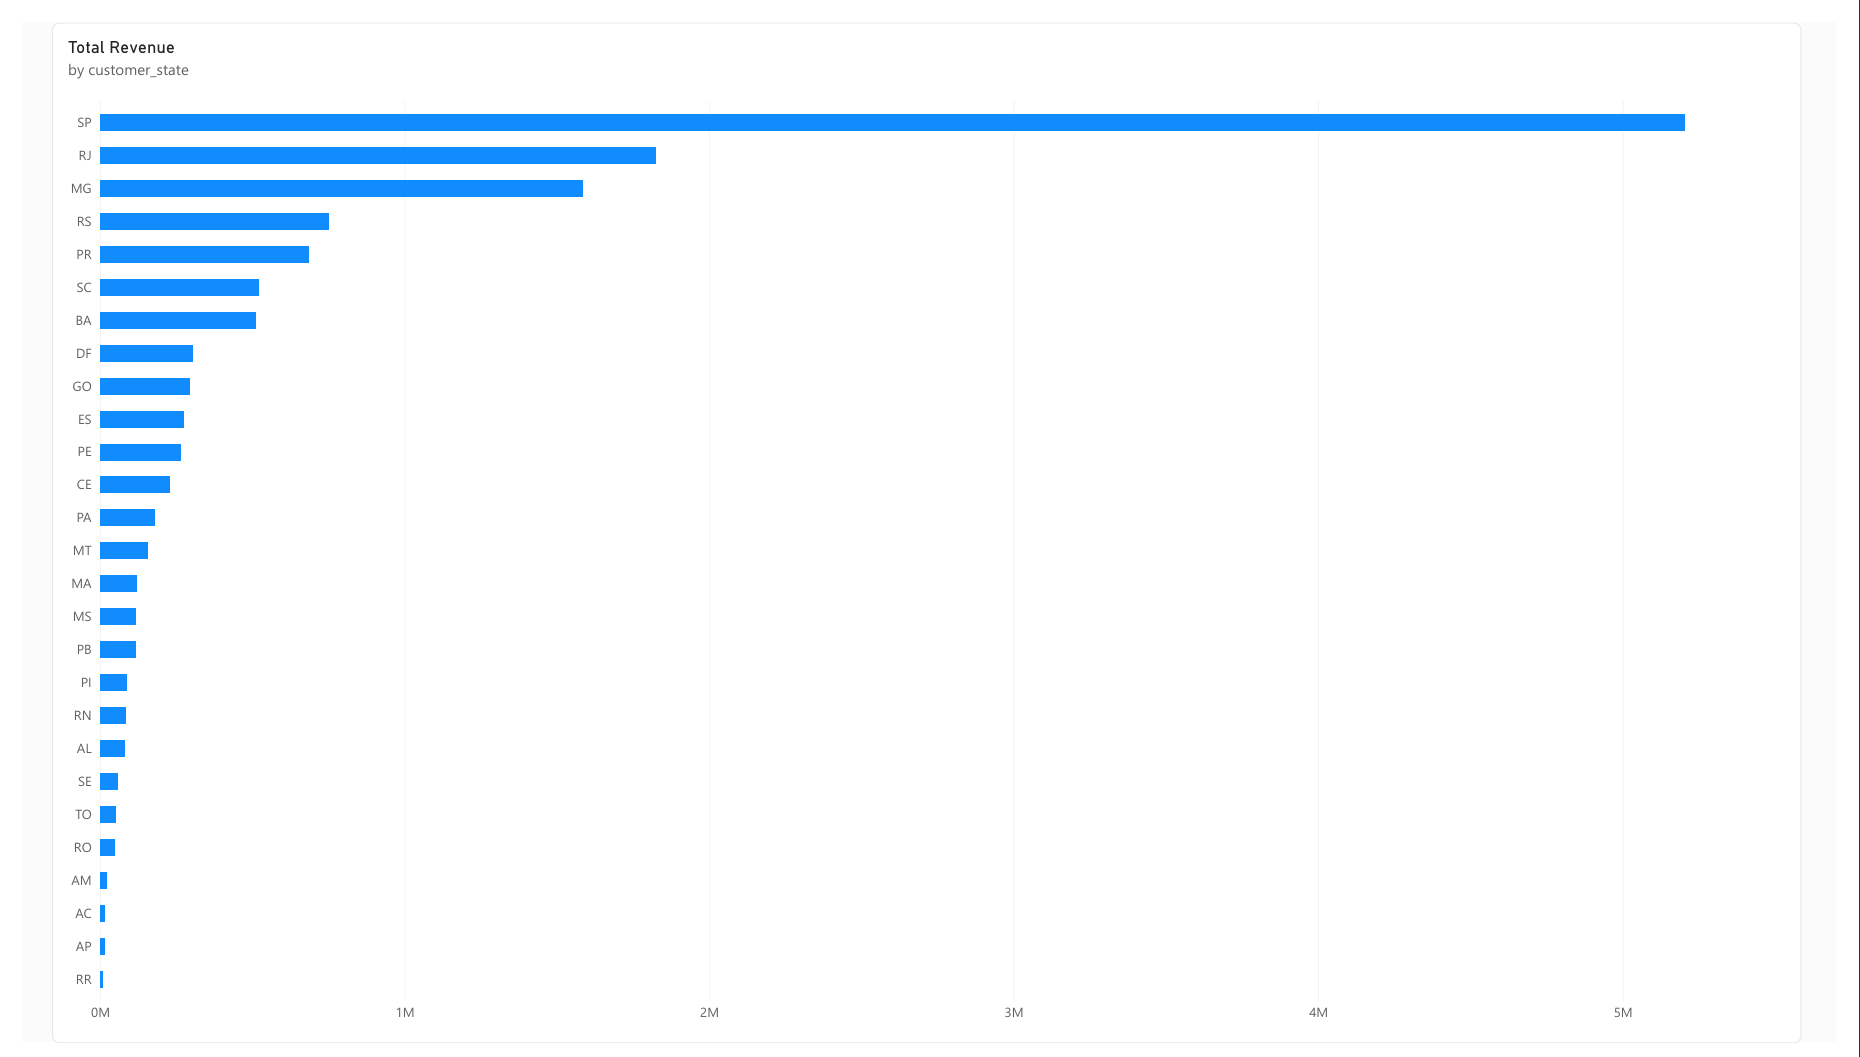

The page's visual inventory and layout, read from the dashboard file:
{"tool":"powerbi","page":{"name":"Page 1","canvas":[1920,1080],"ordinal":0},"visuals":[{"type":"clusteredBarChart","fields":{"Category":["olist_ecommerce olist_customers.customer_state"],"Y":["olist_ecommerce olist_order_items.Total Revenue"]},"box":[30.9,0,1852.5,1080.6],"z":0}]}

Visuals, with their boxes in screenshot pixels (x1, y1, x2, y2), scaled from the page's 1920x1080 canvas onto the 1860x1057 screenshot:
clusteredBarChart - olist_ecommerce olist_customers.customer_state x olist_ecommerce olist_order_items.Total Revenue: region(30, 0, 1825, 1056)
